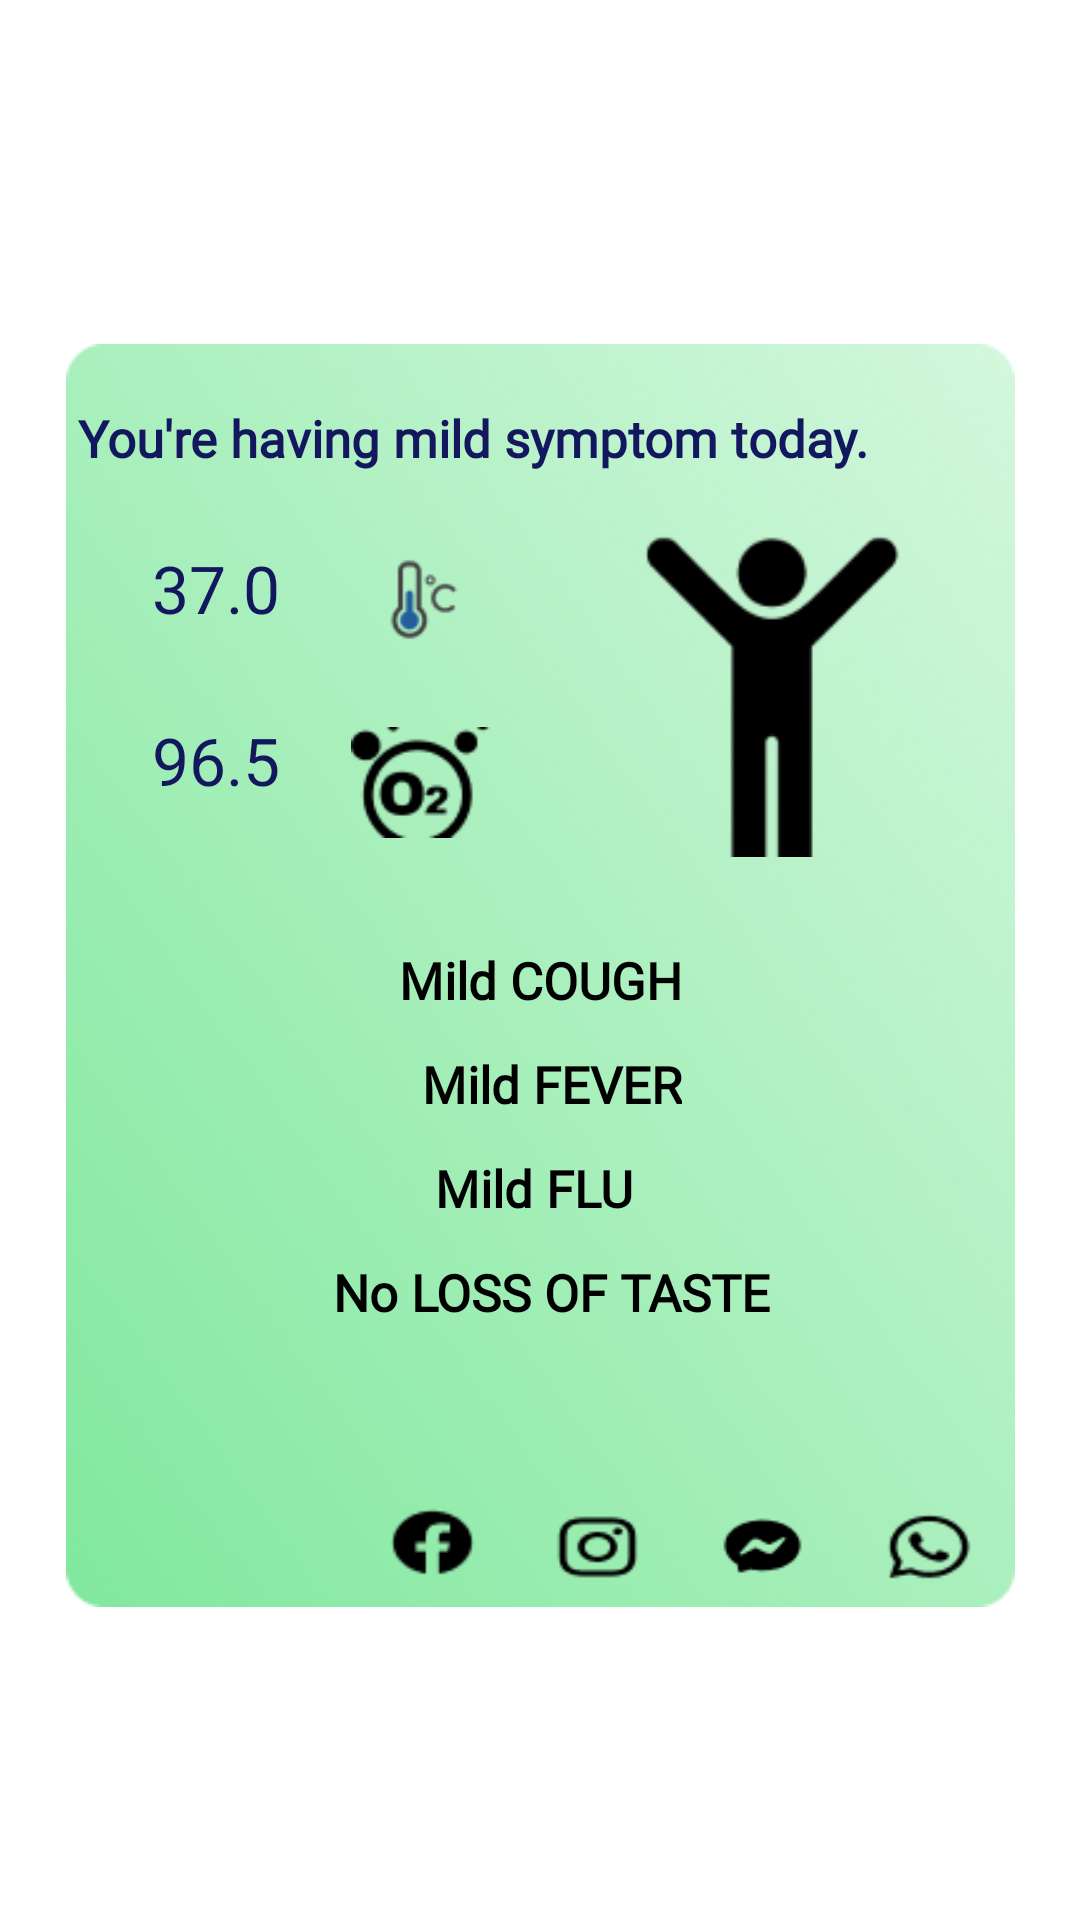

Named icons in this screenshot (1080*1920) and their bounding boxes, {"left": x1, "top": y1, "right": x2, "bottom": y2}:
bloodoxygen: {"left": 351, "top": 727, "right": 490, "bottom": 838}
thermometer: {"left": 390, "top": 560, "right": 457, "bottom": 639}
